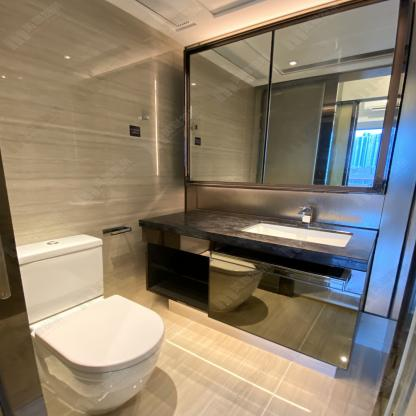Toilet: (16, 233, 164, 411)
Toilet Sink: (209, 215, 371, 255)
